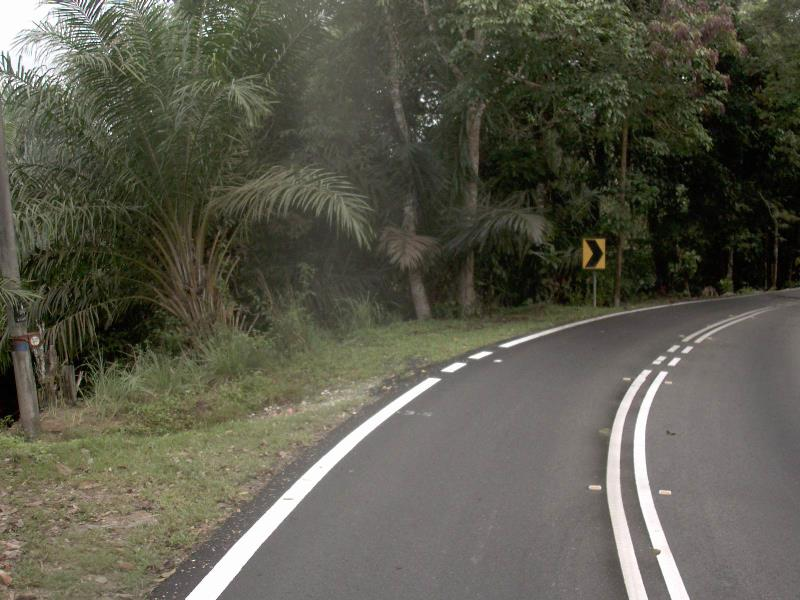traffic_sign: (574, 229, 614, 280)
